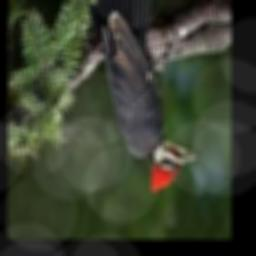Woodpecker: (90, 0, 200, 195)
